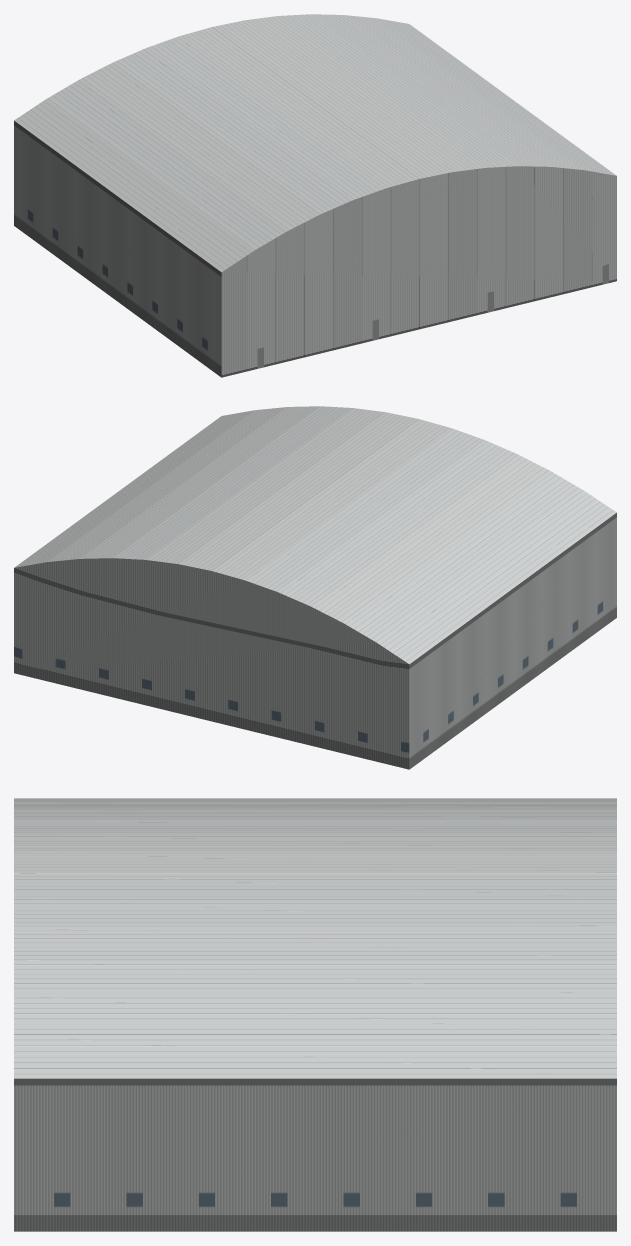
The model's file is khua_hangar_55x50.glb.
The picture shows the model from 3 angles, top to bottom: view 1: azimuth 30°, elevation 25°; view 2: azimuth 150°, elevation 25°; view 3: azimuth 270°, elevation 25°; orthographic projection. The views are drawn at different scales.
Visible parts, largest first — view 1: khua_hangar_55x50_hangar_roof, khua_hangar_55x50_hangar_door, khua_hangar_55x50_hangar_wall; view 2: khua_hangar_55x50_hangar_roof, khua_hangar_55x50_hangar_wall; view 3: khua_hangar_55x50_hangar_roof, khua_hangar_55x50_hangar_wall.
Boxes of the visible parts, bbox=[...] form: khua_hangar_55x50_hangar_roof: bbox=[14, 14, 616, 272]; khua_hangar_55x50_hangar_door: bbox=[221, 166, 616, 377]; khua_hangar_55x50_hangar_wall: bbox=[14, 121, 221, 377]; khua_hangar_55x50_hangar_roof: bbox=[14, 406, 616, 664]; khua_hangar_55x50_hangar_wall: bbox=[14, 513, 616, 769]; khua_hangar_55x50_hangar_roof: bbox=[14, 798, 616, 1078]; khua_hangar_55x50_hangar_wall: bbox=[14, 1078, 616, 1231].
Bounding box in the file's own units: 55 × 20 × 50.
Materials: 3 (3 with a texture image).
